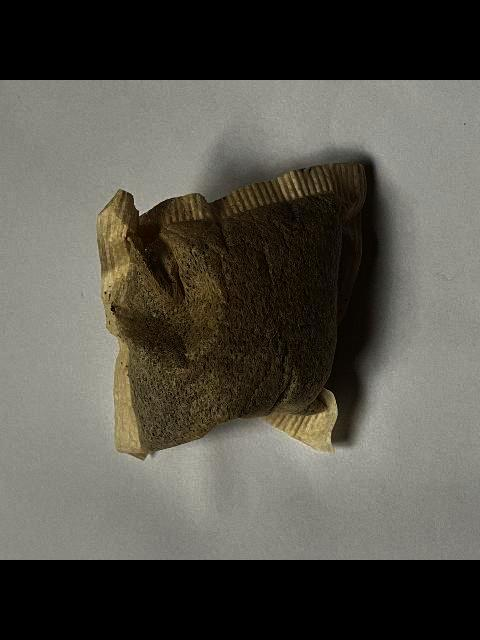teabag: (91, 160, 371, 464)
